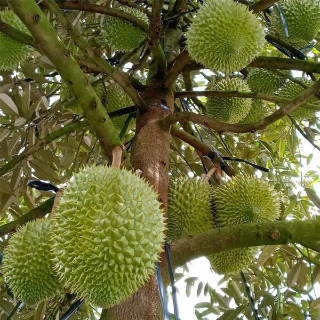sau_rieng: (45, 157, 170, 314)
